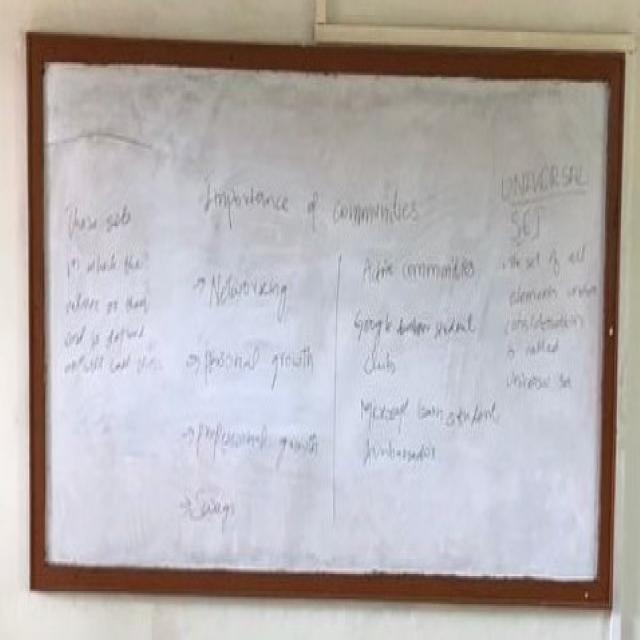White-board: (35, 45, 617, 601)
